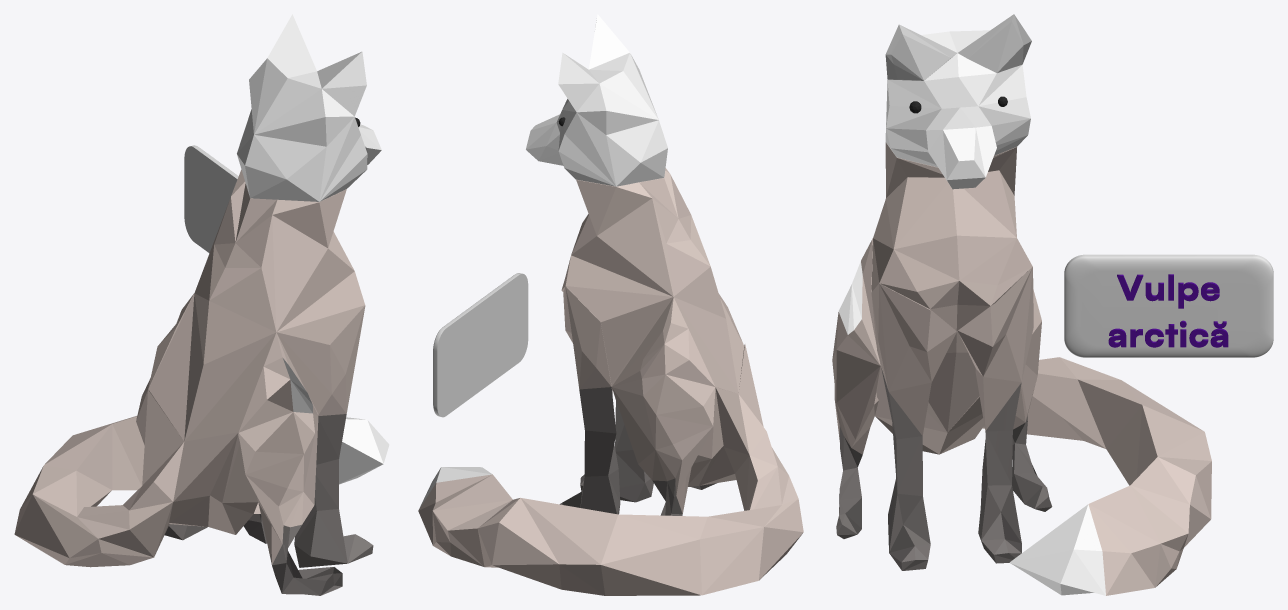
The model's file is Vulpe scaled.fbx.
The picture shows the model from 3 angles, left to right: view 1: azimuth 30°, elevation 25°; view 2: azimuth 150°, elevation 25°; view 3: azimuth 270°, elevation 25°; orthographic projection. The views are drawn at different scales.
Visible parts, largest first — view 1: model.003, Cube.012; view 2: model.003, Cube.012; view 3: model.003, Cube.012, Text.012.
Part boxes in pixels (x1,y1,x2,y2): model.003: (14,14,389,595); Cube.012: (184,145,238,253); model.003: (418,14,803,595); Cube.012: (433,273,528,417); model.003: (832,14,1211,595); Cube.012: (1064,254,1273,357); Text.012: (1108,274,1228,347).
Bounding box in the file's own units: 0.1389 × 0.1859 × 0.1367.
